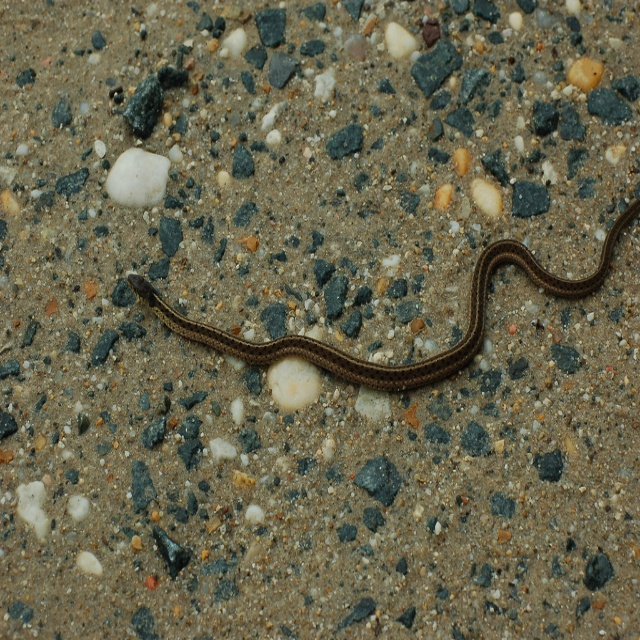Snake: (126, 199, 640, 391)
